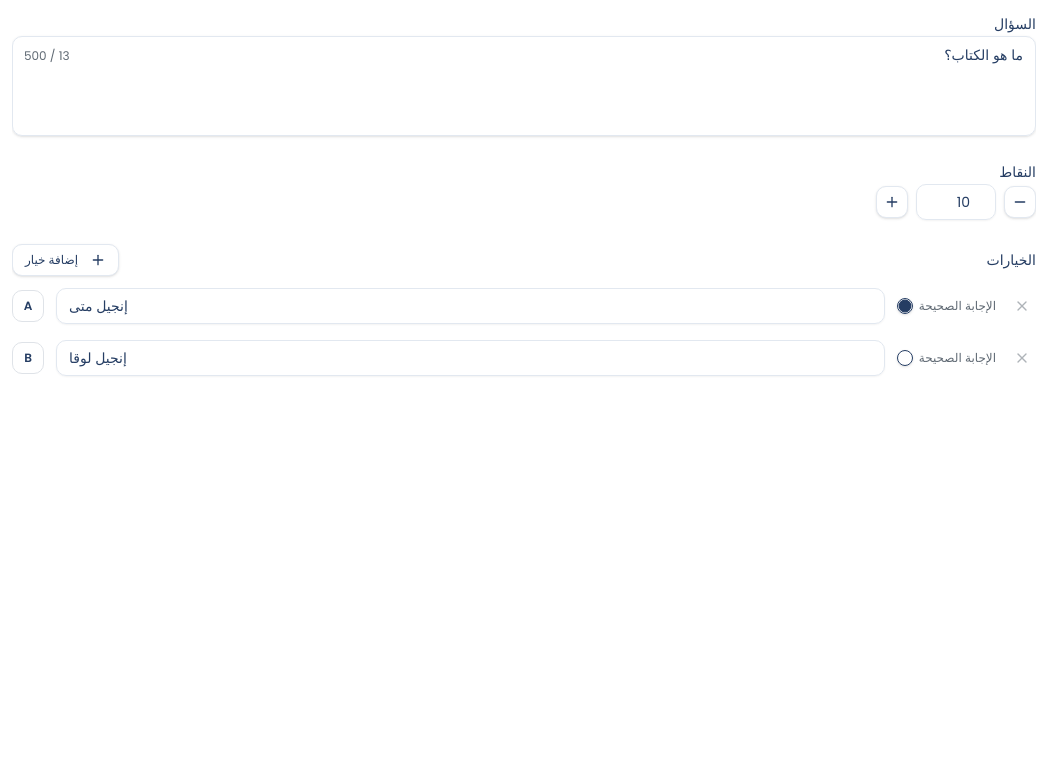
Test: the form of a question › adds an option, and never more than six
The image size is (1048, 780).
Click the button "إضافة خيار" at (66, 260), box [12,244,119,276]
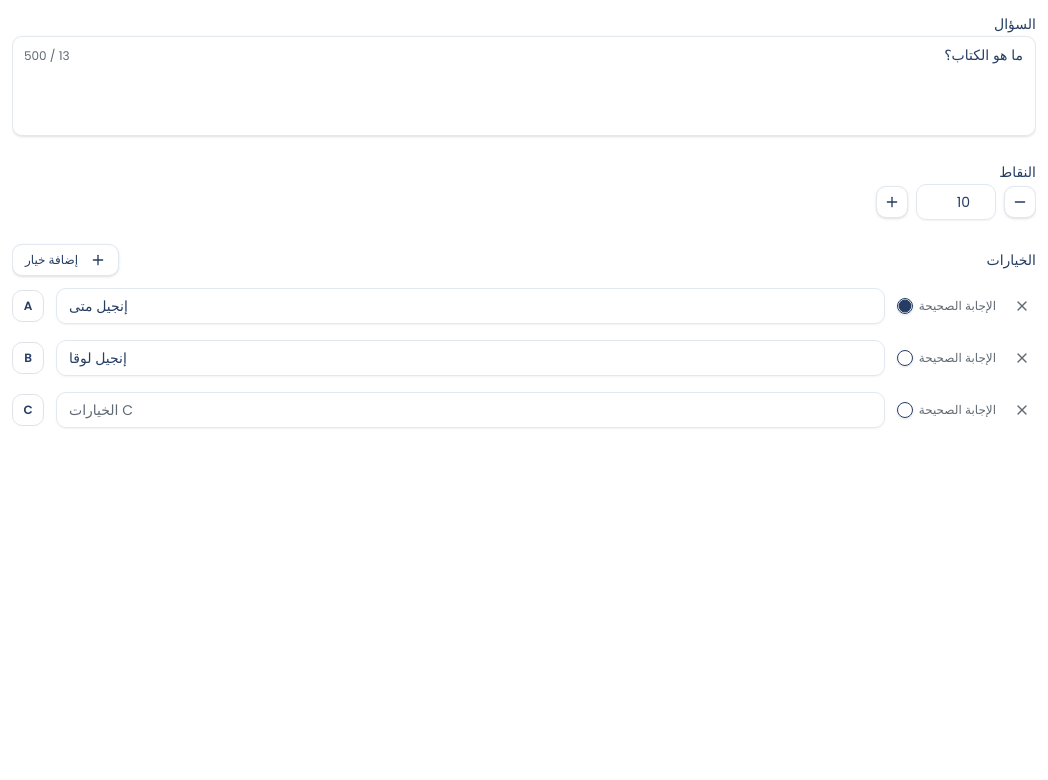
Click the button "إضافة خيار" at (66, 260), box [12,244,119,276]
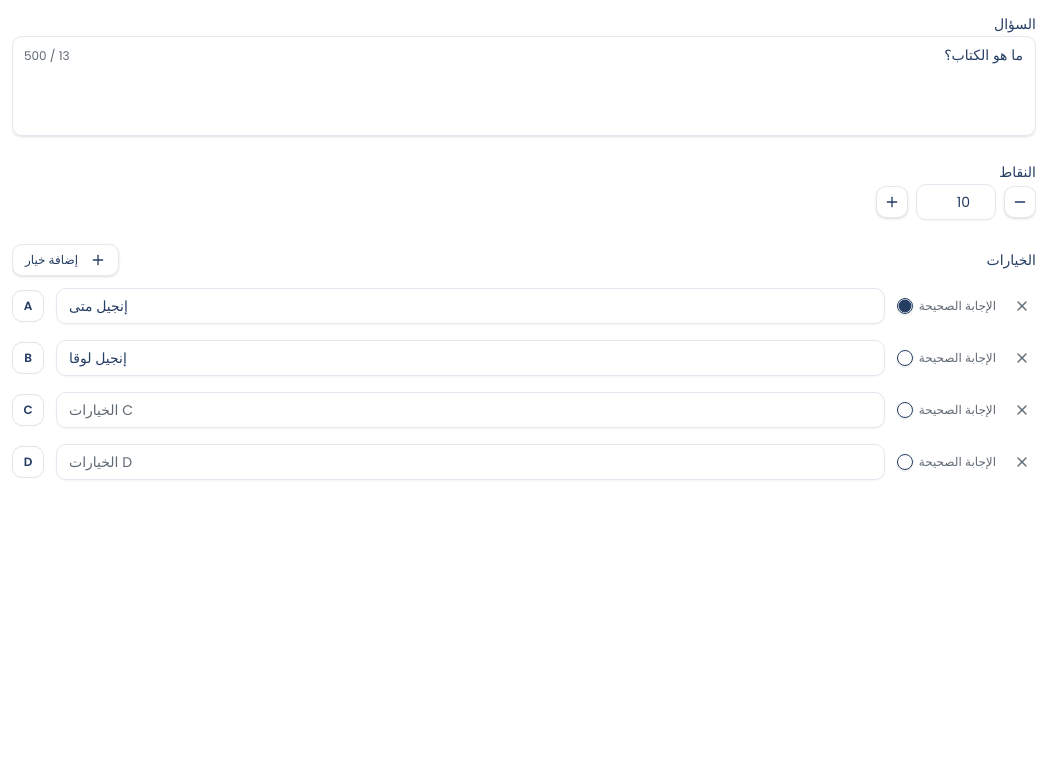
Click the button "إضافة خيار" at (66, 260), box [12,244,119,276]
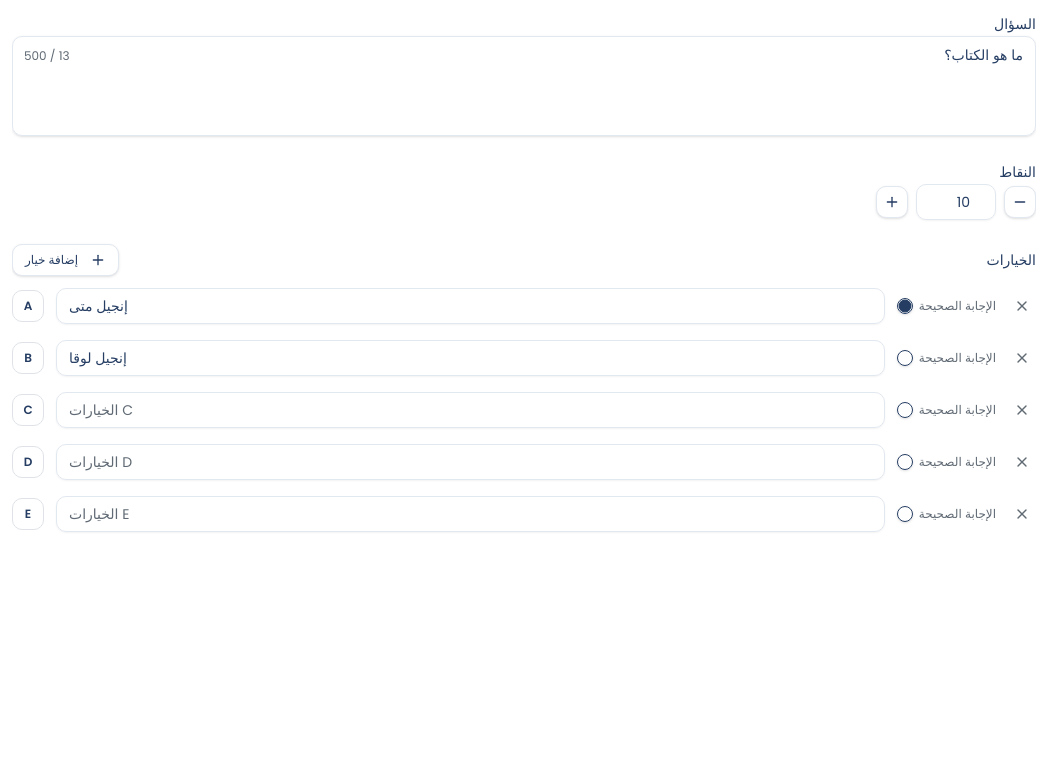
Click the button "إضافة خيار" at (66, 260), box [12,244,119,276]
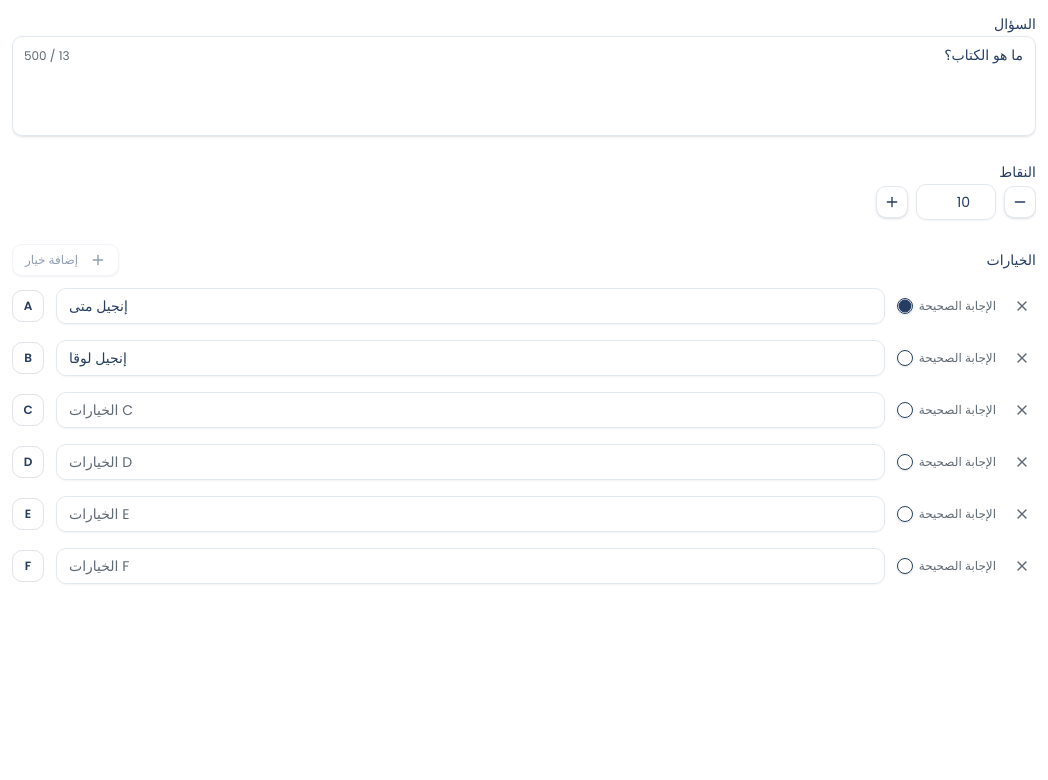
Expected: the text "F" is shown, [12,550,44,582]
Expected: the button "إضافة خيار" is disabled, [12,244,119,276]
